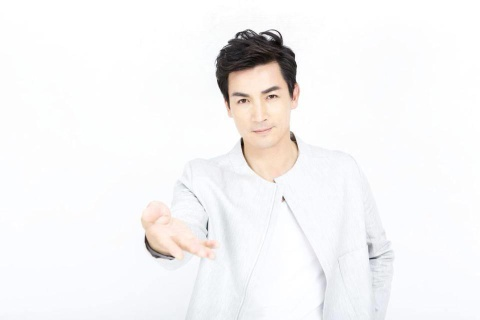male: (212, 23, 310, 153)
